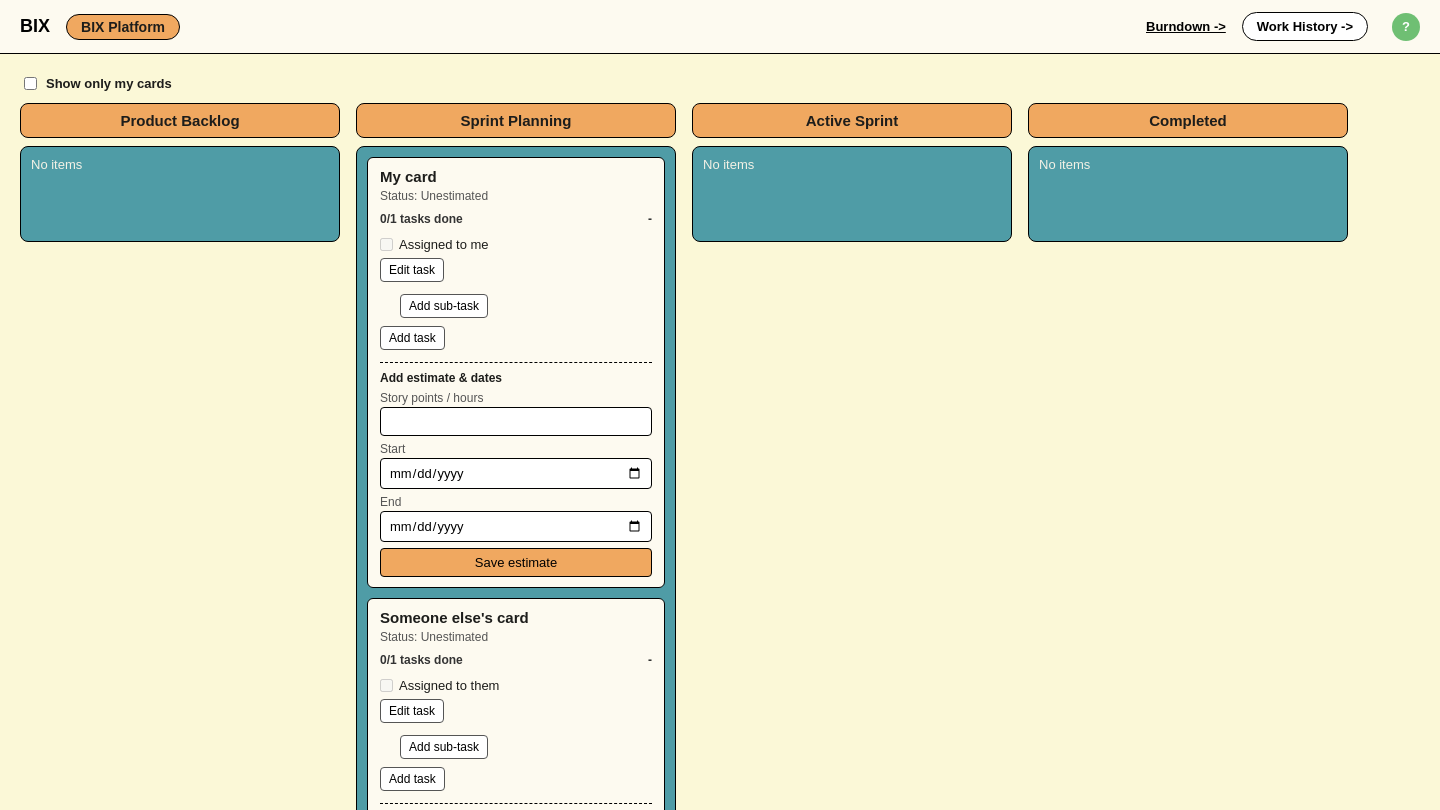
"Show only my cards" filter › hides cards with no task assigned to the logged-in user once checked
Expected: the heading "My card" is shown, [380,168,437,185]
Click the checkbox labelled "Show only my cards" at (30, 84), box [24,77,37,90]
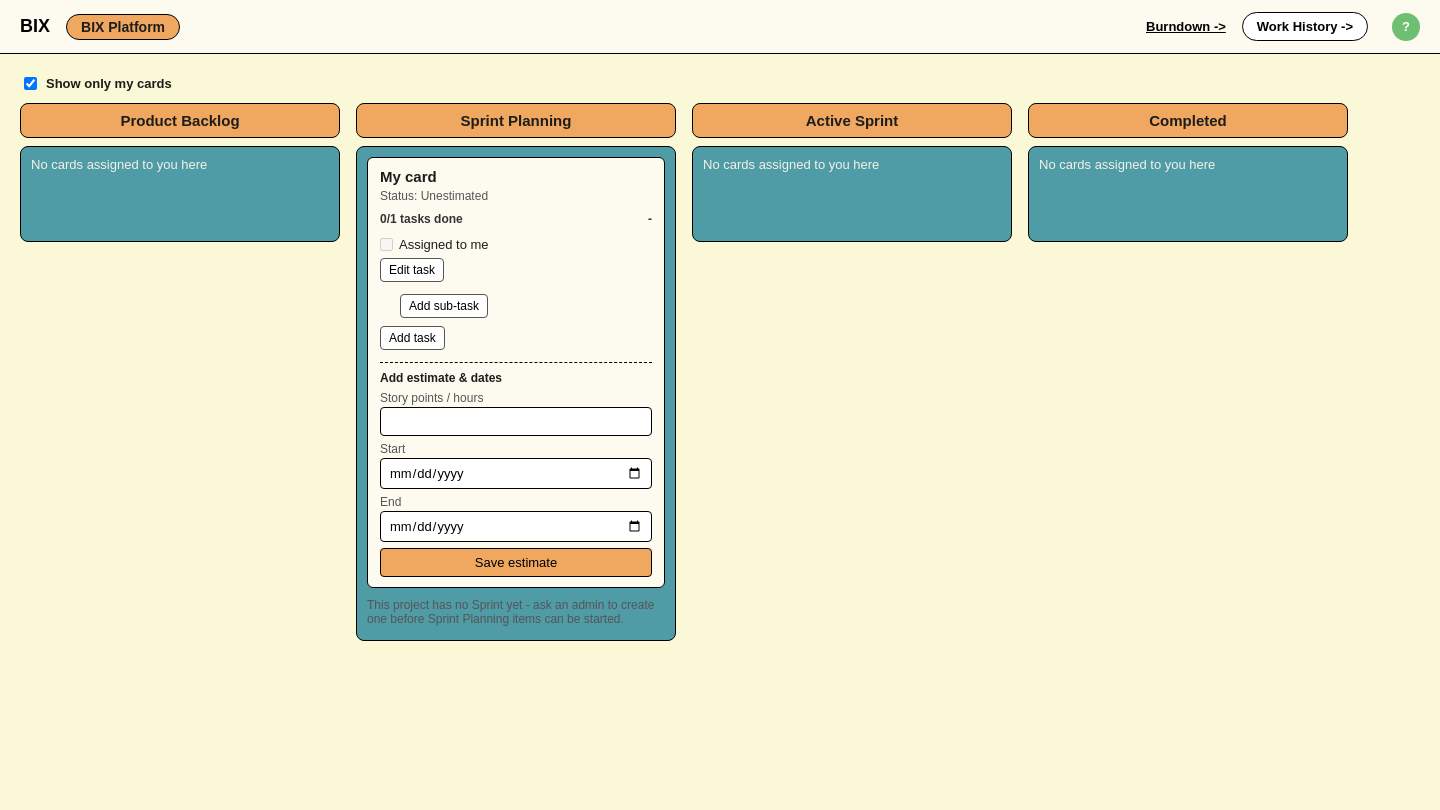
Expected: the heading "My card" is shown, [380,168,437,185]
Expected: the heading "Someone else's card" is gone
